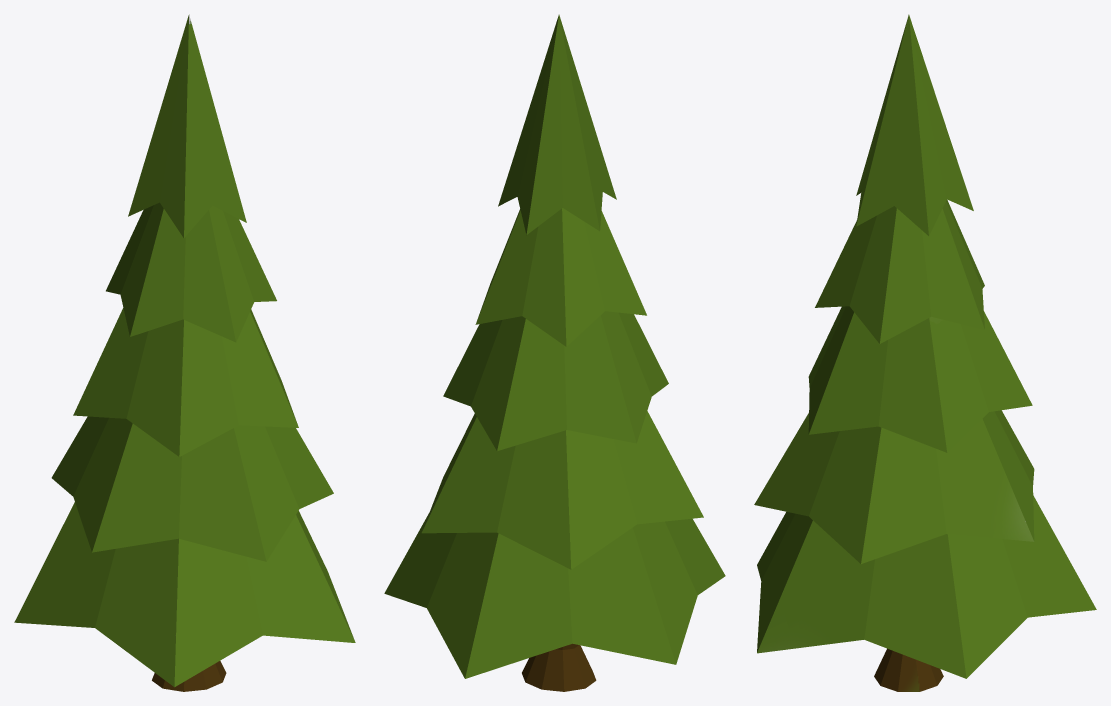
The model's file is Pine Tree 1.glb.
3 views of the same model, side by side, from view 1: azimuth 30°, elevation 25°; view 2: azimuth 150°, elevation 25°; view 3: azimuth 270°, elevation 25° (orthographic).
Visible parts, largest first — view 1: Cylinder; view 2: Cylinder; view 3: Cylinder.
Part boxes in pixels (<box>): Cylinder: <box>14,14,355,691</box>; Cylinder: <box>384,14,725,691</box>; Cylinder: <box>754,14,1096,691</box>.
Bounding box in the file's own units: 4.58 × 9.92 × 4.66.
Materials: 1 (1 with a texture image).
